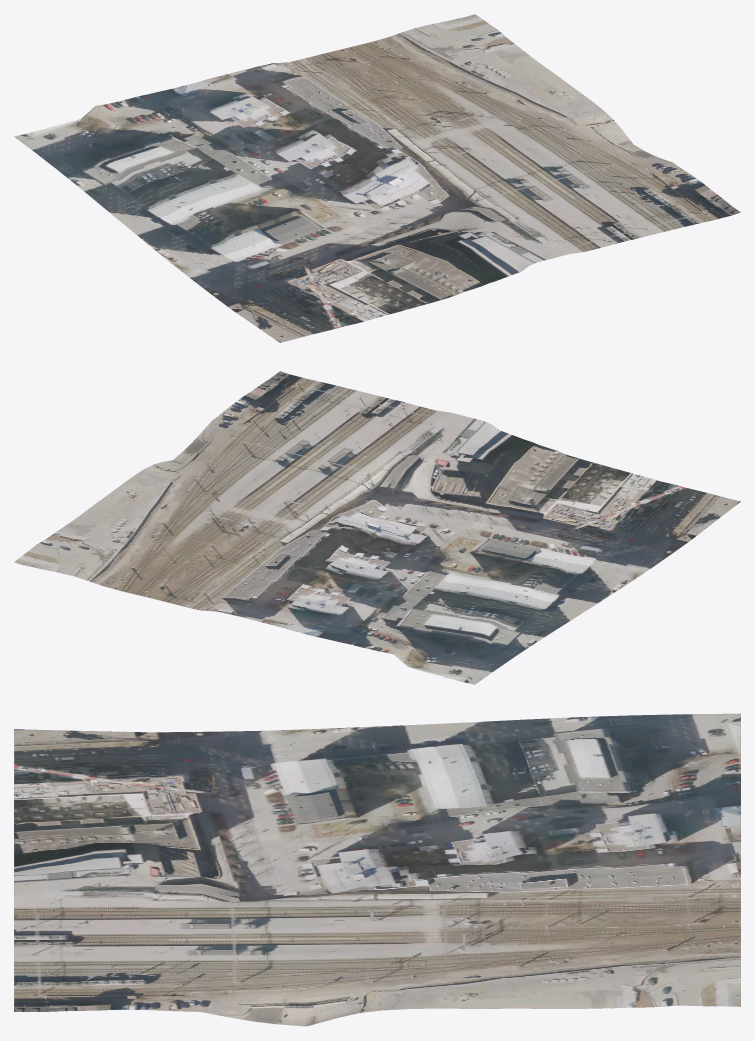
Rendered from CM_Terrain_24487797_6821227.fbx.
The picture shows the model from 3 angles, top to bottom: view 1: azimuth 30°, elevation 25°; view 2: azimuth 150°, elevation 25°; view 3: azimuth 270°, elevation 25°; orthographic projection. The views are drawn at different scales.
Parts seen in each view (by area): view 1: CM_Terrain_24487797_6821227_LOD0; view 2: CM_Terrain_24487797_6821227_LOD0; view 3: CM_Terrain_24487797_6821227_LOD0.
Boxes of the visible parts, box(x1,y1,x2,y2) form: CM_Terrain_24487797_6821227_LOD0: box(14, 14, 740, 342); CM_Terrain_24487797_6821227_LOD0: box(14, 371, 740, 684); CM_Terrain_24487797_6821227_LOD0: box(14, 713, 740, 1026).
Size of what is drawn, in the model's own units: 205 by 10.58 by 205.
